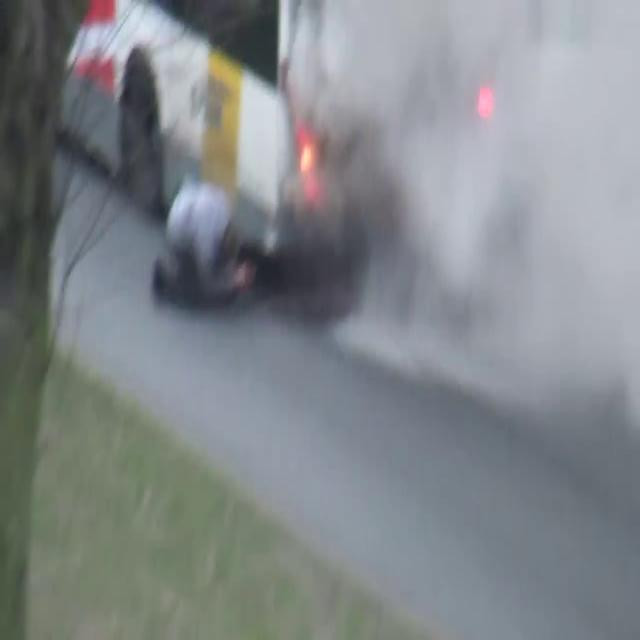Smoke: (319, 0, 640, 461)
